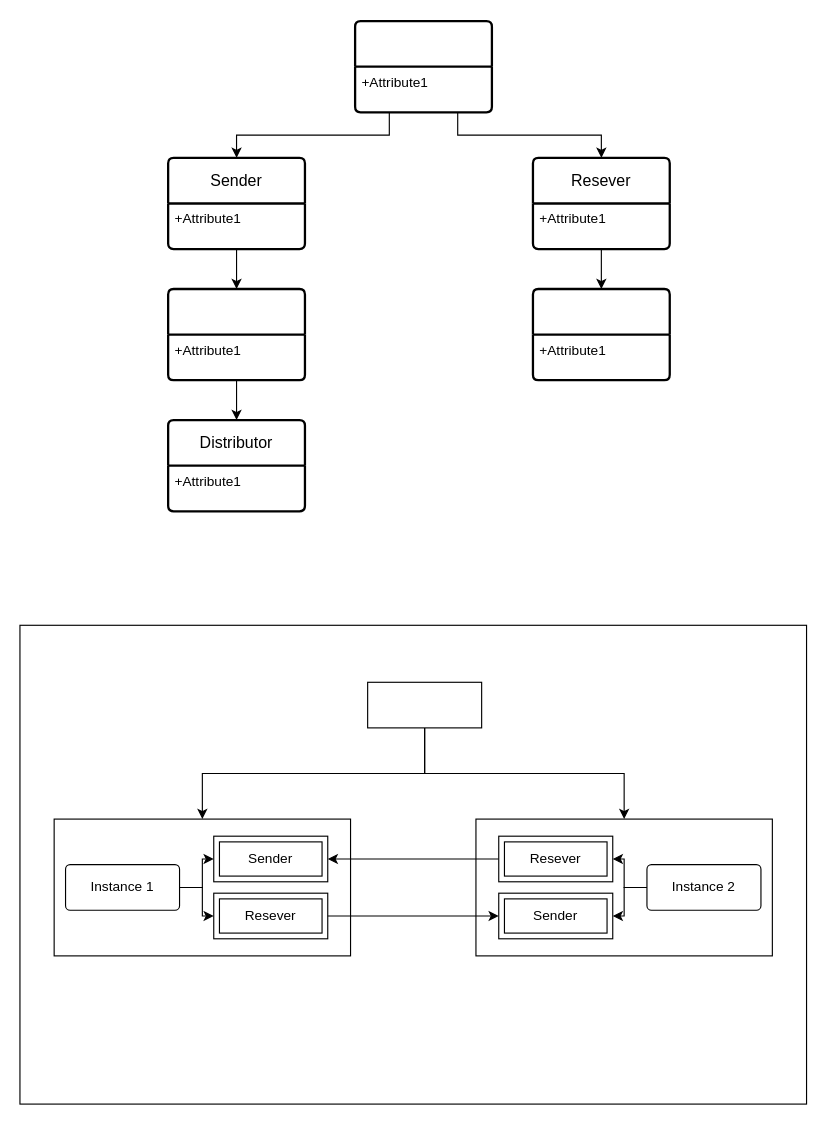
Image size: 827x1124. Some labels were removed from this diagram. The box of each missing label's shape, as (x1, y1, x2, y2) in pixels:
Event: (166, 287, 306, 381)
Listener: (531, 287, 670, 381)
Test: (353, 19, 492, 113)
Test_Connector: (367, 681, 482, 728)
